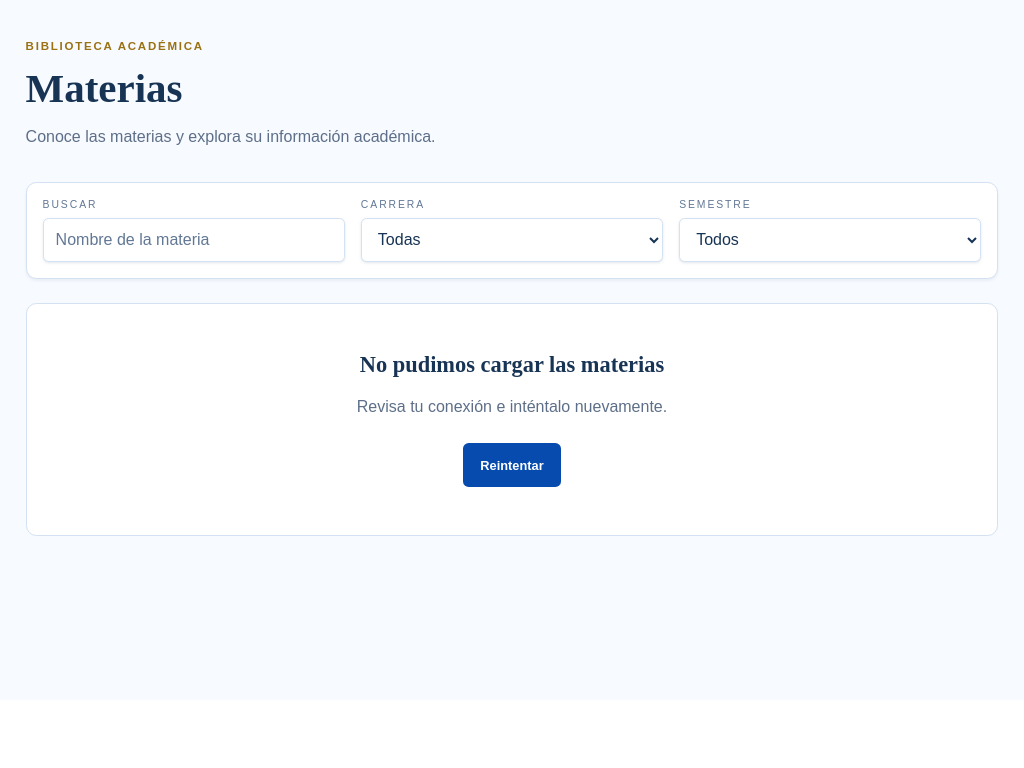
Test case: HU-01: catálogo de materias › distingue un error del catálogo vacío y permite reintentar la consulta
The image size is (1024, 768).
Expected: the message shows "No pudimos cargar las materias", 360,352 -> 664,377
Click the button "Reintentar" at (512, 465), box 463,443 -> 561,487
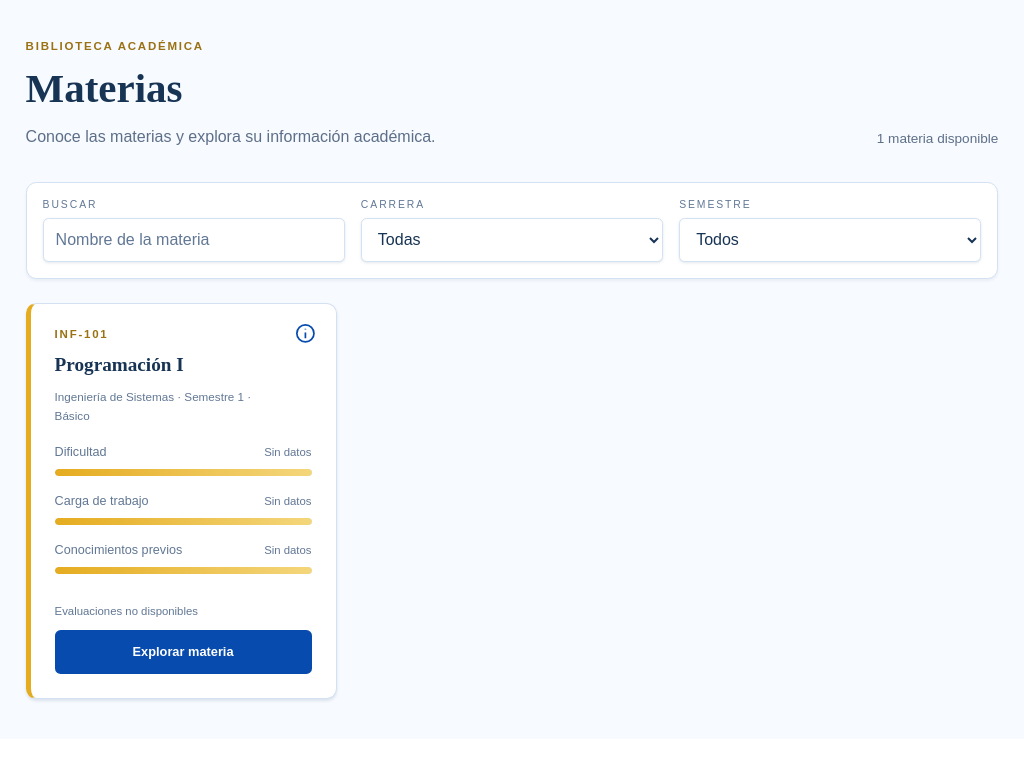
Expected: the message is gone
